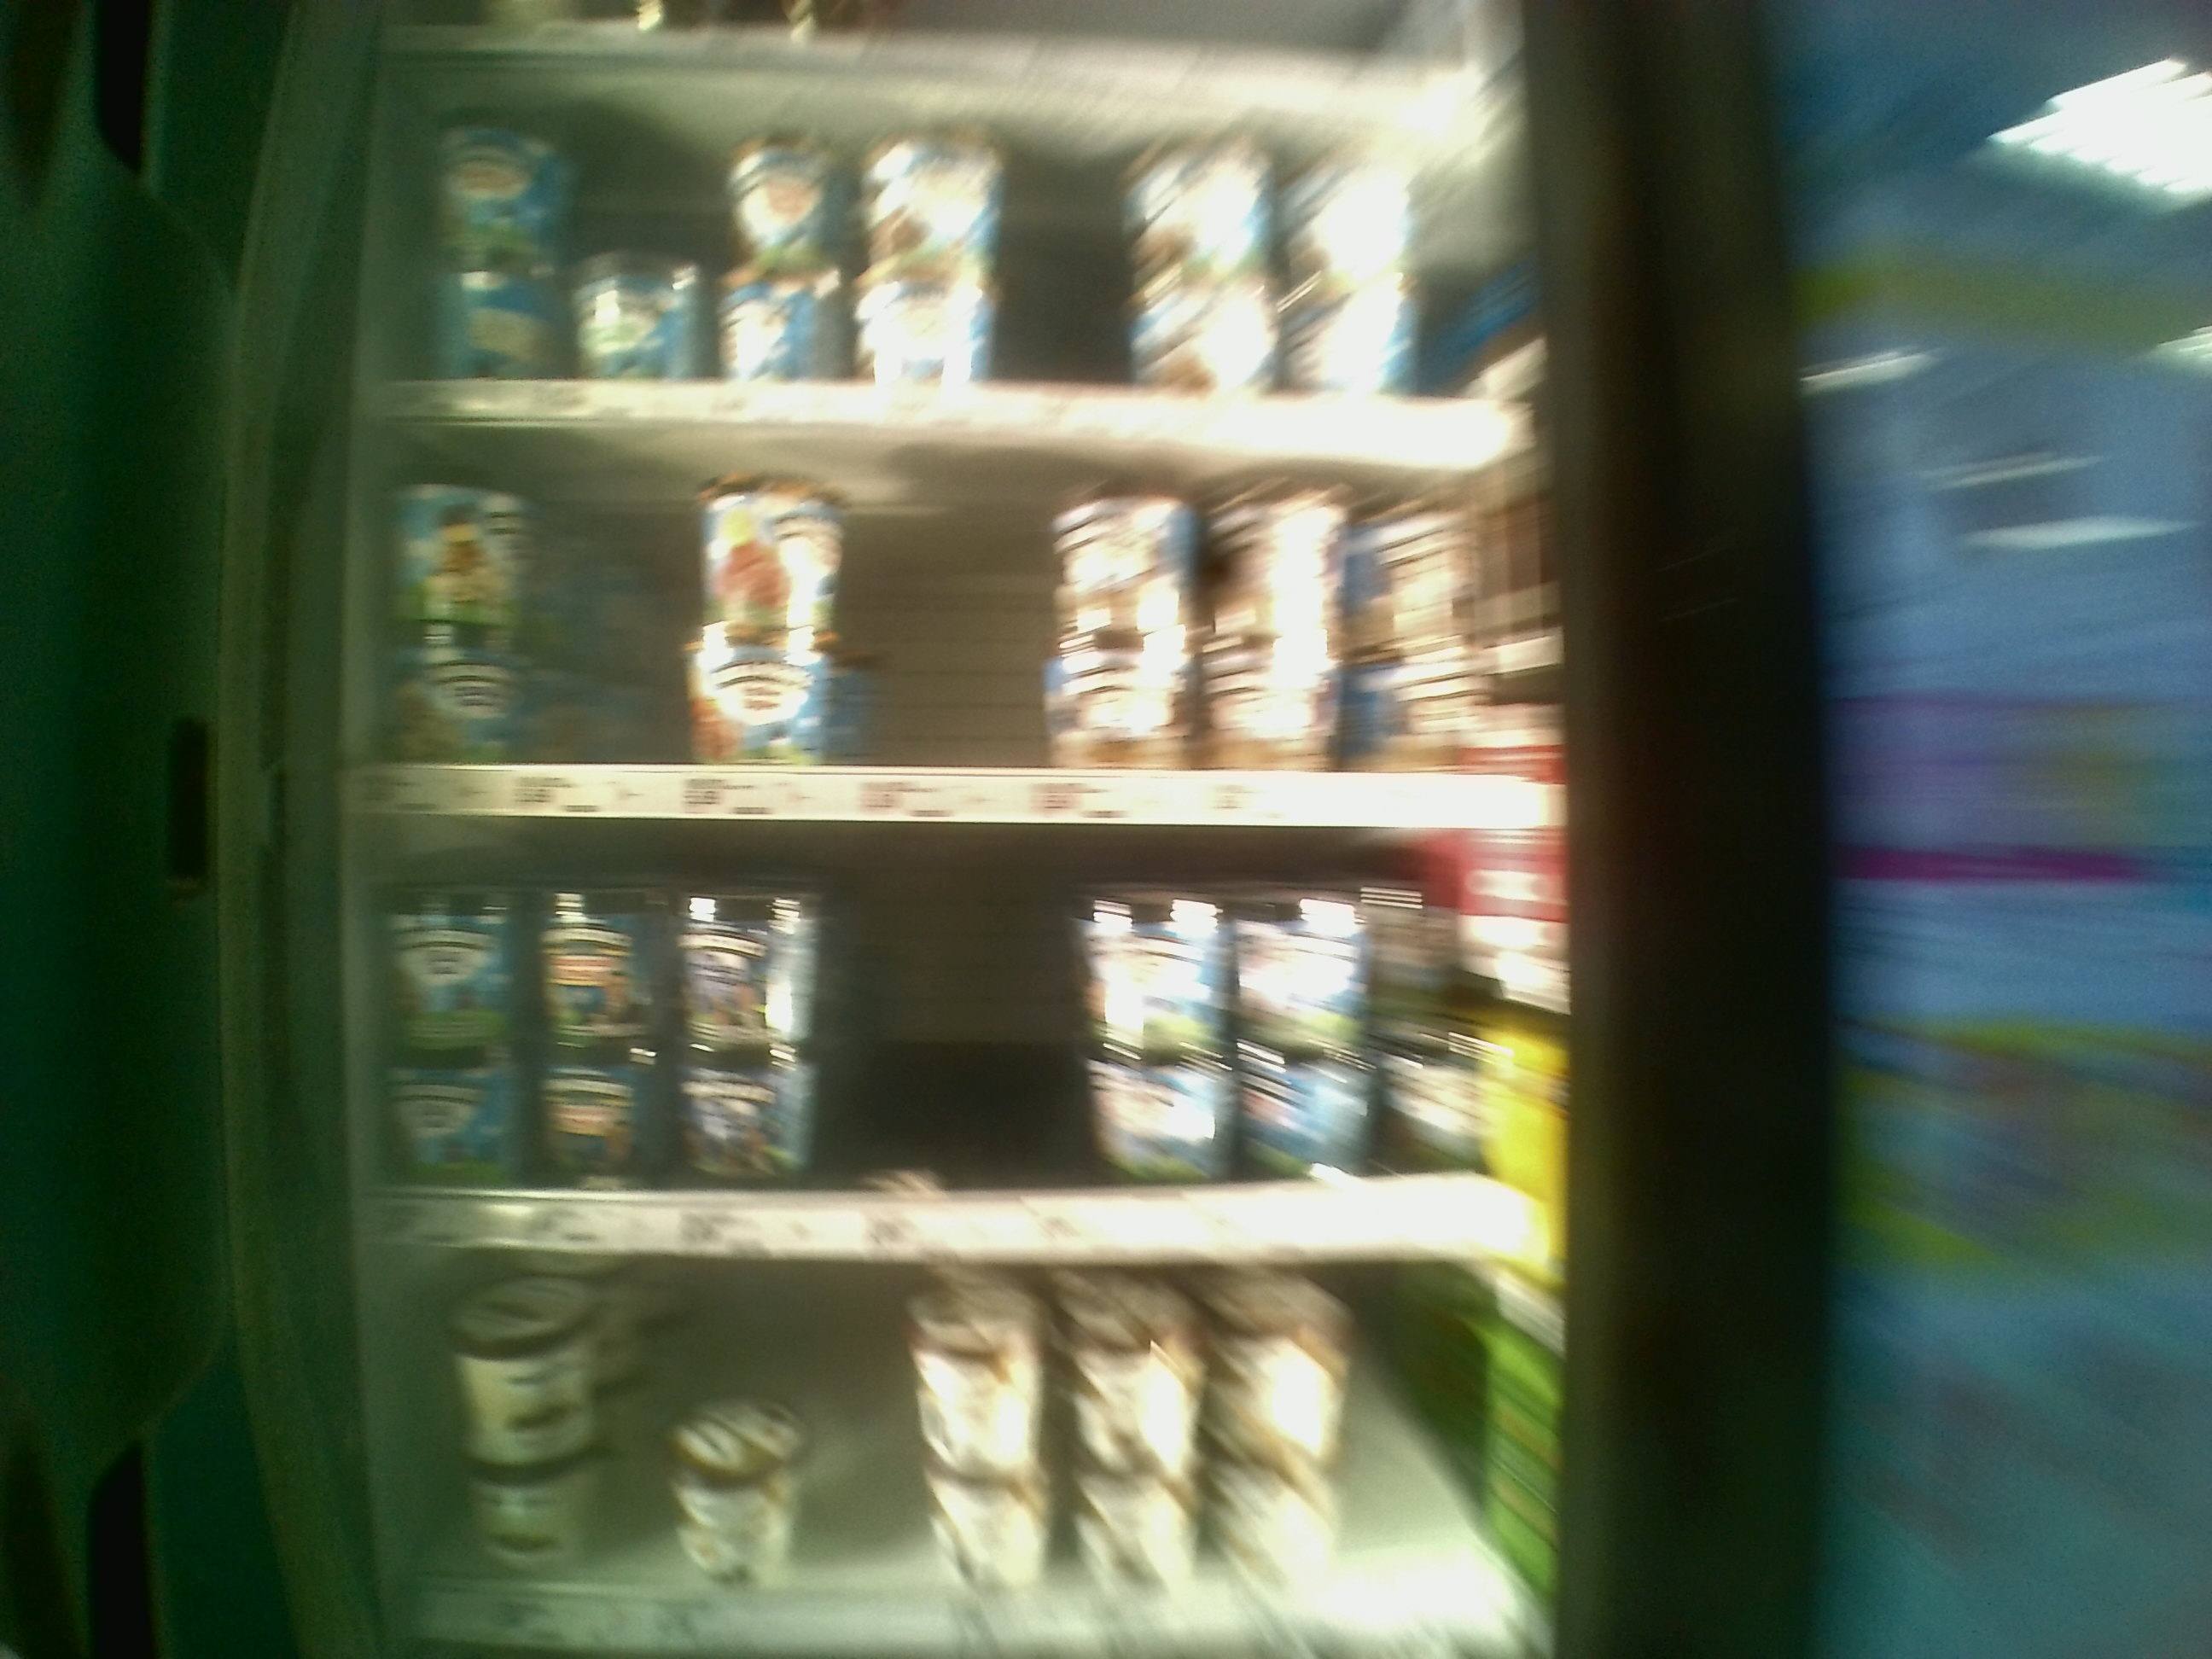shelf: (374, 817, 1555, 1258), (383, 397, 1548, 824)
